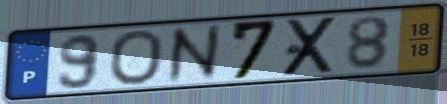7: (227, 18, 279, 83)
8: (343, 15, 395, 71)
9: (56, 33, 103, 91)
N: (166, 22, 222, 87)
O: (106, 28, 166, 87)
X: (278, 14, 342, 79)
